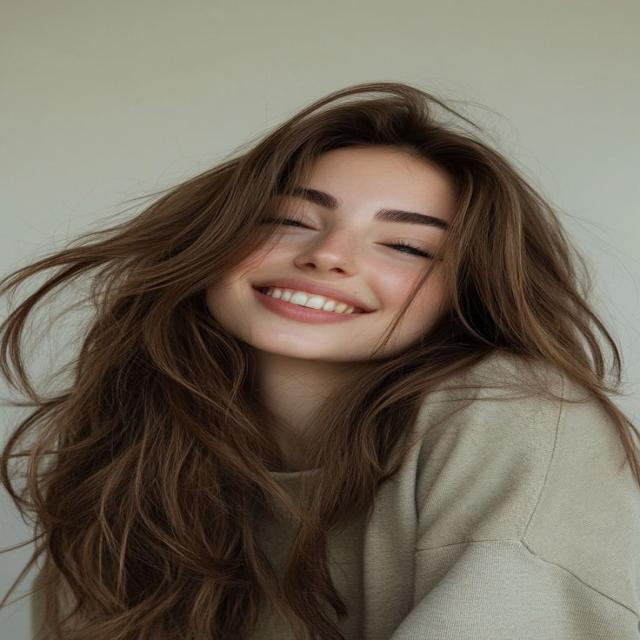sem_oculos: (231, 177, 487, 271)
